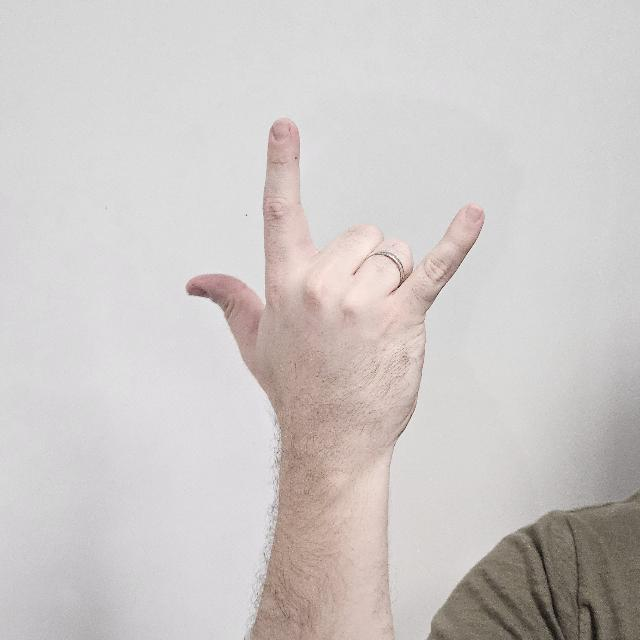Cima: (192, 107, 484, 470)
